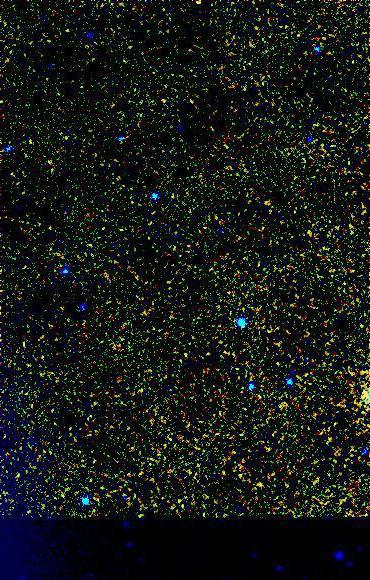star: (245, 472, 275, 502)
